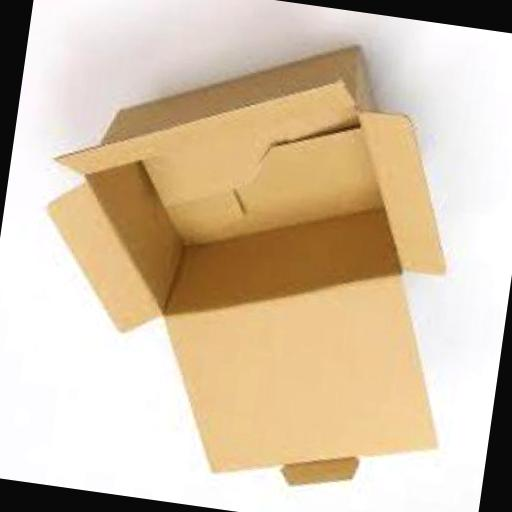cardboard: (9, 9, 488, 506)
